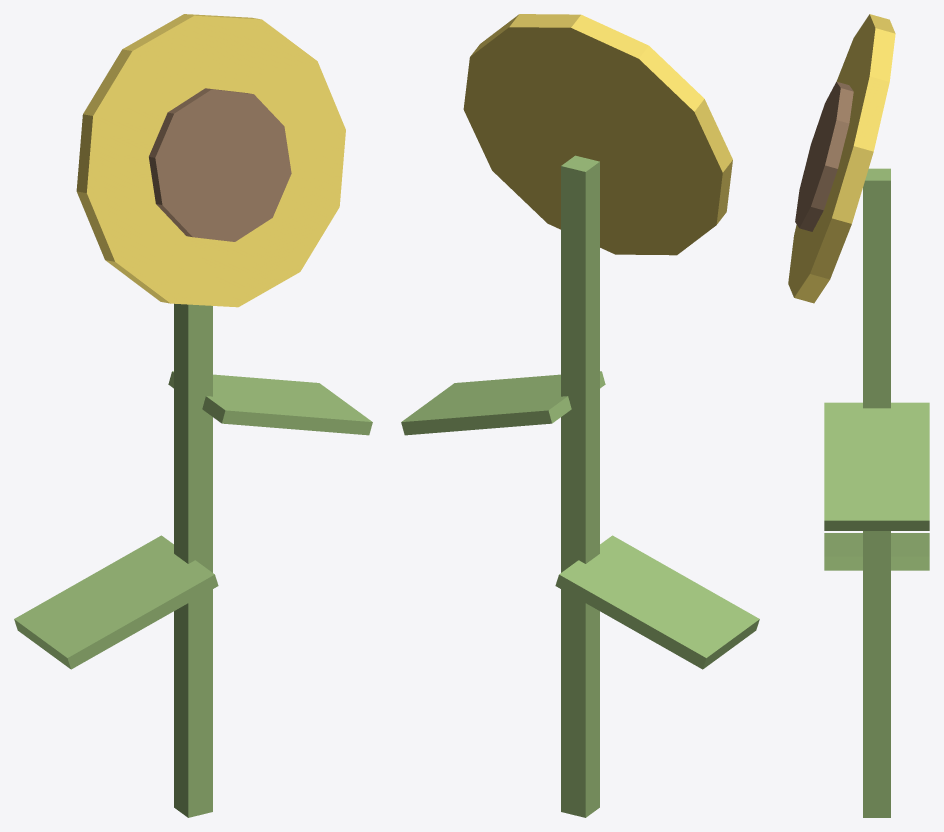
Rendered from sunflower.glb.
3 views of the same model, side by side, from view 1: azimuth 30°, elevation 25°; view 2: azimuth 150°, elevation 25°; view 3: azimuth 270°, elevation 25° (orthographic).
Visible parts, largest first — view 1: sunflower; view 2: sunflower; view 3: sunflower.
Part boxes in pixels (left/top/right/bottom): sunflower: left=14, top=14, right=372, bottom=817; sunflower: left=401, top=14, right=759, bottom=817; sunflower: left=788, top=14, right=929, bottom=817.
Size of the model in its own units: 0.9895 by 2.46 by 0.4028.
